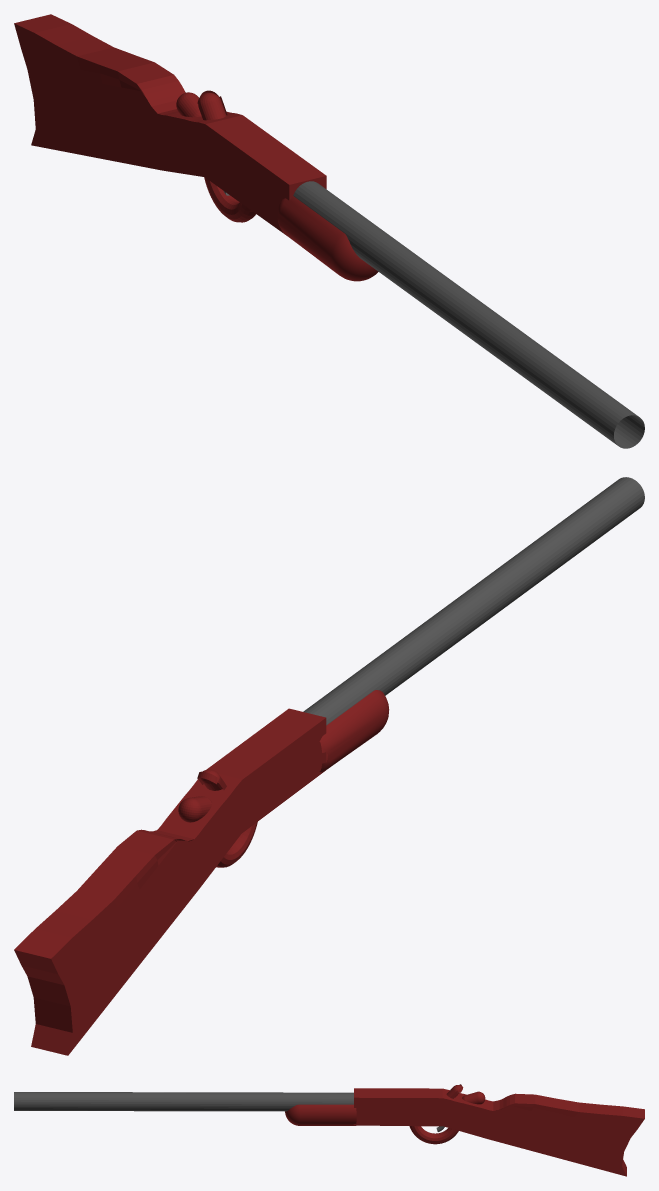
Rendered from shotgun.glb.
3 renders of one model, top to bottom at view 1: azimuth 30°, elevation 25°; view 2: azimuth 150°, elevation 25°; view 3: azimuth 270°, elevation 25°, orthographic. The views are drawn at different scales.
Parts seen in each view (by area): view 1: Cube.001, Circle, Sphere.001, Sphere, Torus; view 2: Cube.001, Circle, Sphere.001, Sphere; view 3: Cube.001, Circle, Sphere.001, Torus, Sphere.
Part boxes in pixels (box(x1,y1,x2,y2)): Cube.001: box(14, 14, 326, 235); Circle: box(293, 181, 644, 448); Sphere.001: box(277, 196, 378, 281); Sphere: box(176, 90, 227, 120); Torus: box(204, 177, 255, 222); Cube.001: box(14, 708, 326, 1055); Circle: box(303, 477, 644, 725); Sphere.001: box(319, 690, 389, 772); Sphere: box(178, 769, 226, 822); Cube.001: box(353, 1088, 644, 1176); Circle: box(14, 1092, 353, 1111); Sphere.001: box(285, 1104, 356, 1125); Torus: box(409, 1126, 458, 1144); Sphere: box(446, 1084, 485, 1104).
Size of the model in its own units: 0.4024 by 1.25 by 8.22.
